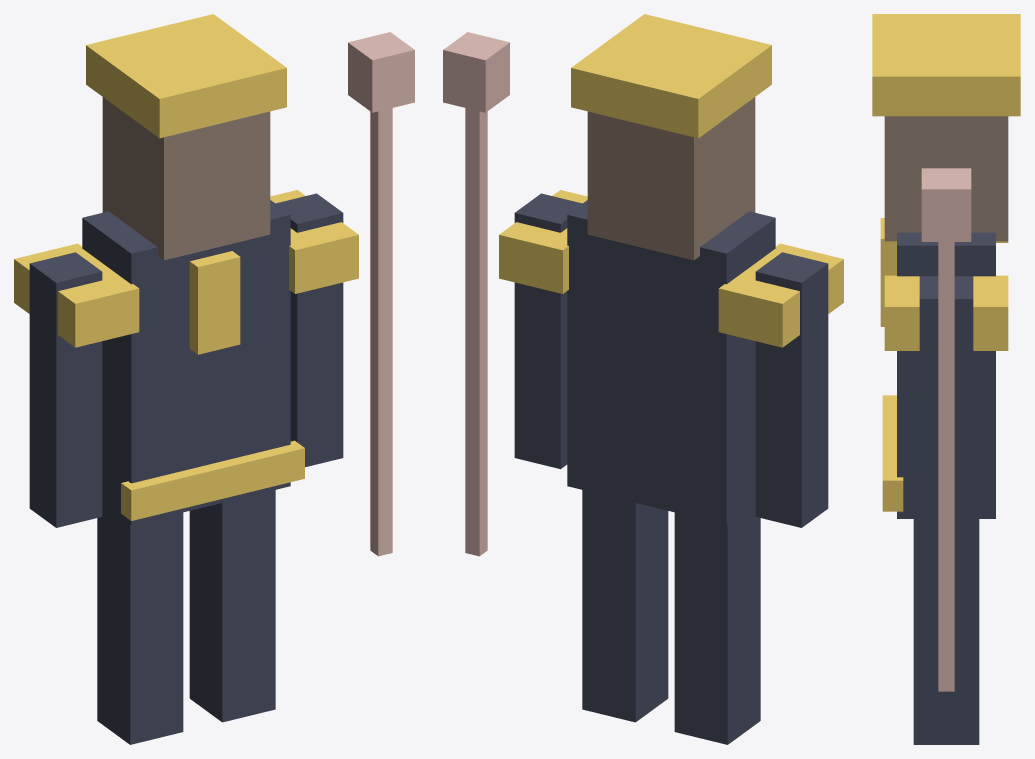
File: 05_sarai_latchward_cartographer_of_agri_domes.glb
The picture shows the model from 3 angles, left to right: view 1: azimuth 30°, elevation 25°; view 2: azimuth 150°, elevation 25°; view 3: azimuth 270°, elevation 25°; orthographic projection.
Parts seen in each view (by area): view 1: Sarai Latchward, Cartographer of Agri-Domes; view 2: Sarai Latchward, Cartographer of Agri-Domes; view 3: Sarai Latchward, Cartographer of Agri-Domes.
Boxes of the visible parts, bbox=[...] form: Sarai Latchward, Cartographer of Agri-Domes: bbox=[14, 14, 414, 744]; Sarai Latchward, Cartographer of Agri-Domes: bbox=[443, 14, 843, 744]; Sarai Latchward, Cartographer of Agri-Domes: bbox=[872, 14, 1020, 744].
Size of the model in its own units: 0.9613 by 1.68 by 0.3409.
